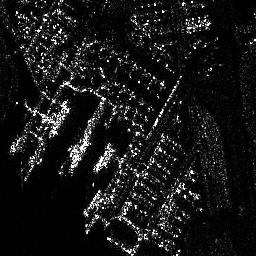ship: (68, 130, 92, 174), (48, 100, 71, 137), (92, 141, 114, 173), (82, 188, 103, 215)
